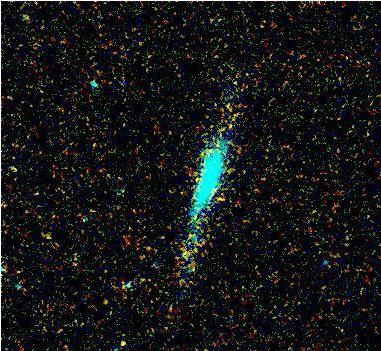star: (105, 325, 135, 351)
